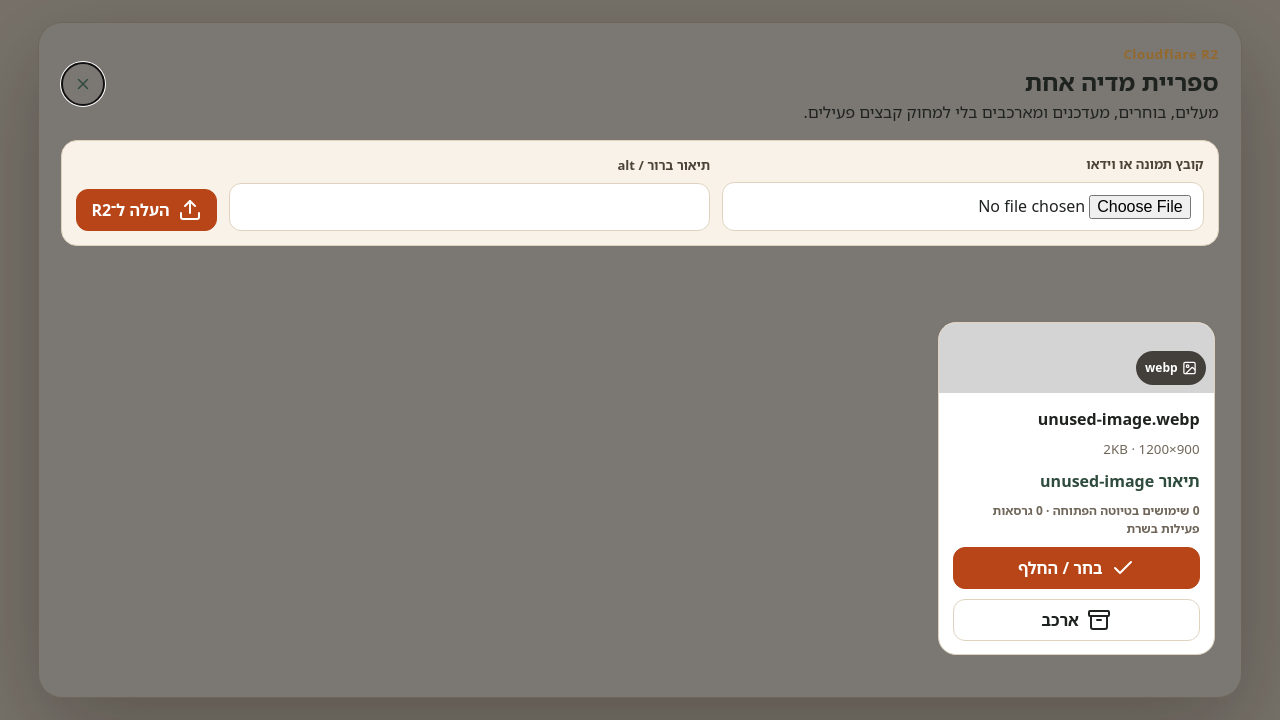
Test: R2 media library › archives an unused asset and keeps the server response in sync
(page scrolled)
Click the button "ארכב". click: (1076, 620)
box: [953, 599, 1200, 641]
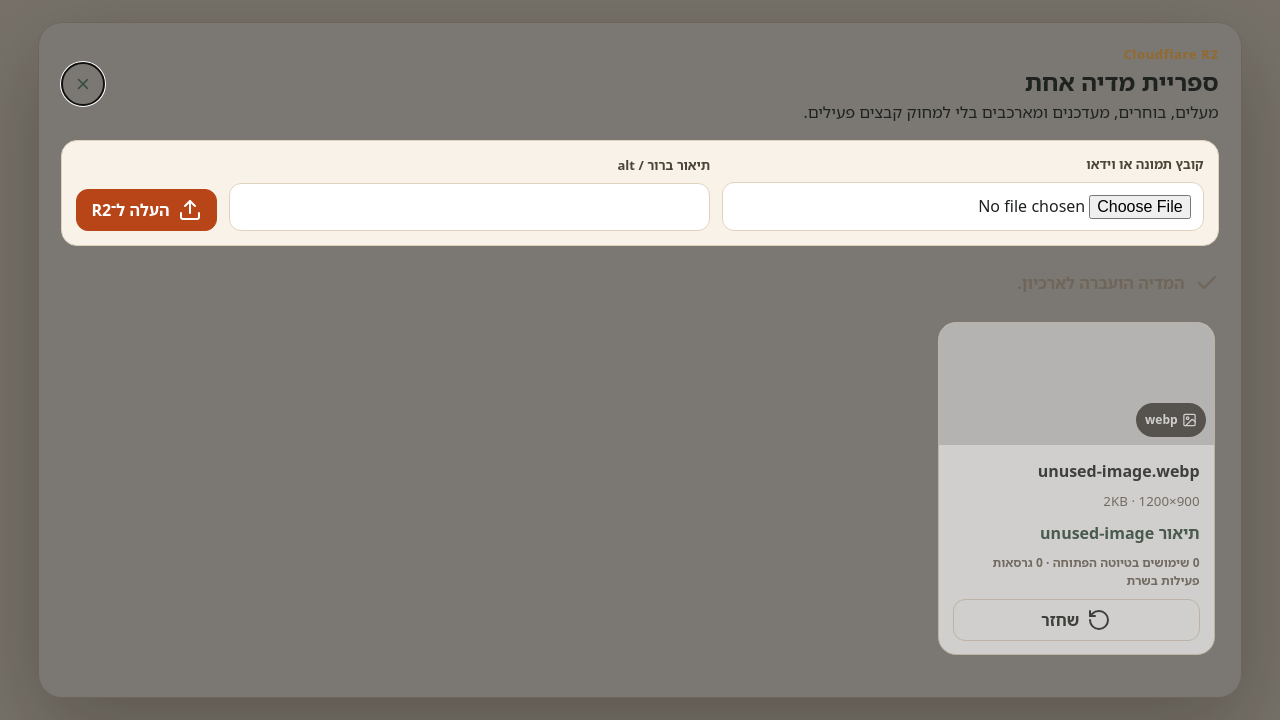
Result: the text "המדיה הועברה לארכיון." is shown at [1017, 271, 1185, 295]
Result: the button "שחזר" is shown at [953, 599, 1200, 641]
